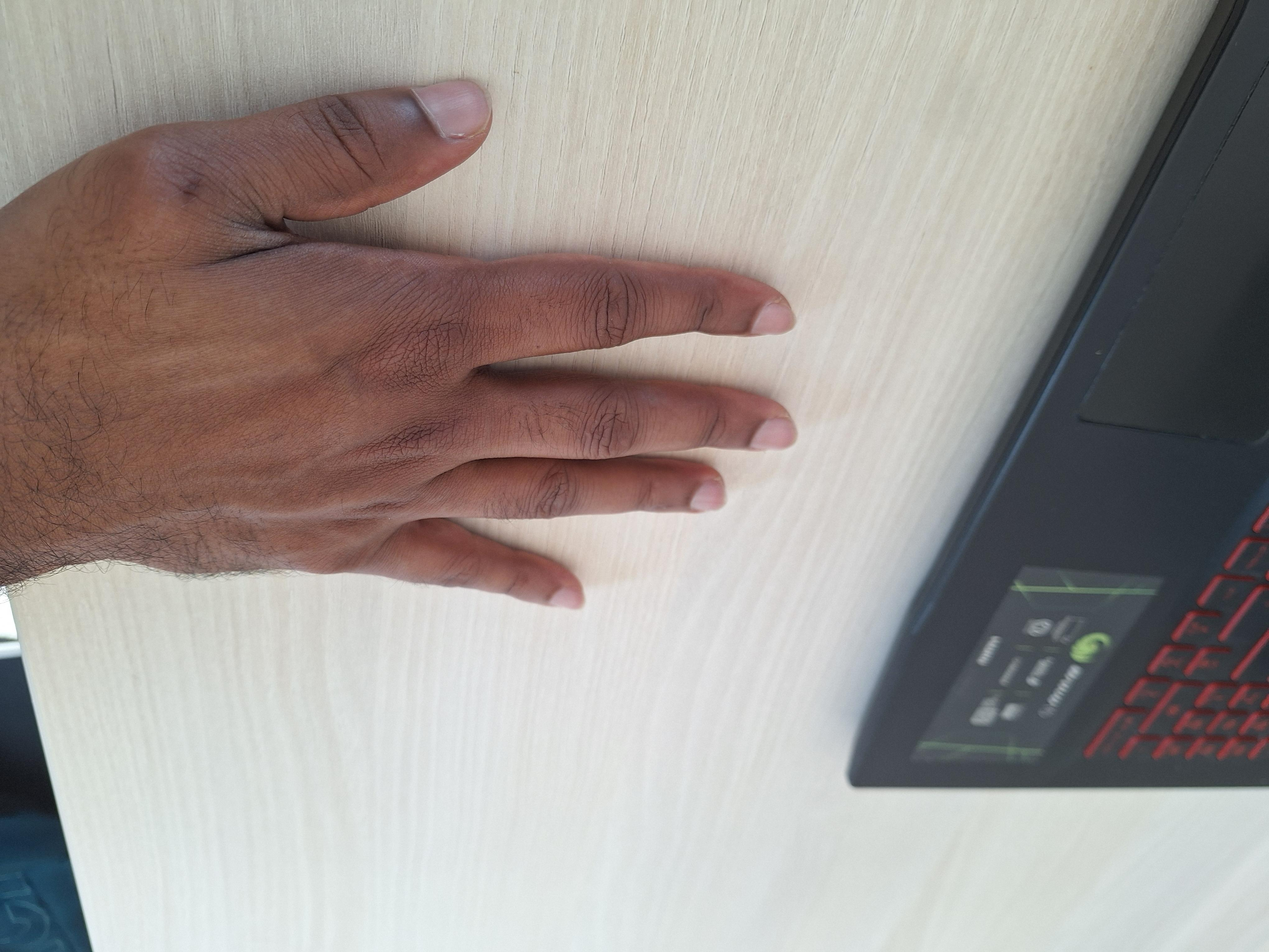Fingernail: (414, 79, 492, 139), (750, 415, 798, 451), (753, 303, 797, 336), (690, 482, 728, 516), (550, 587, 584, 610)
